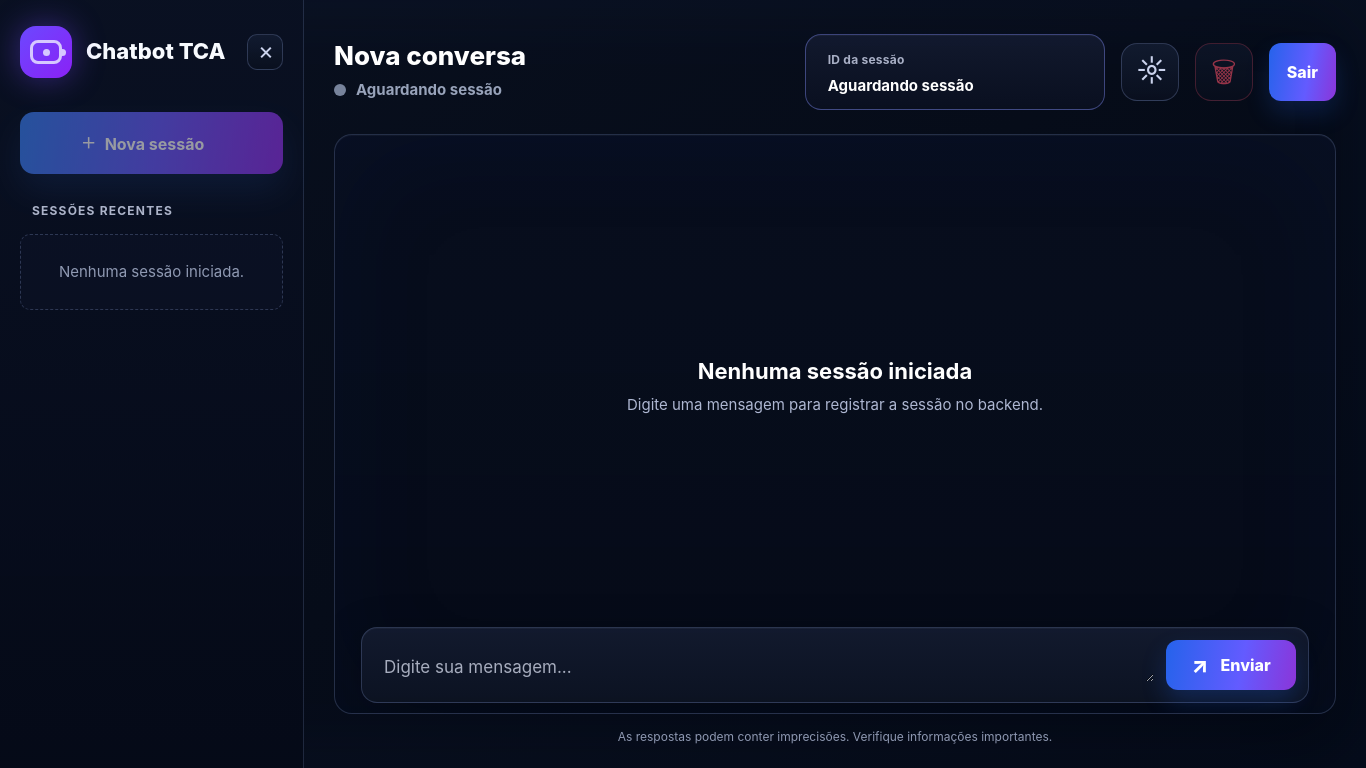
ChatBox › shows API errors and keeps the typed message visible
In the text box with placeholder "Digite sua mensagem...": (768, 668) x1=382 y1=653 x2=1154 y2=682, type "Oi"
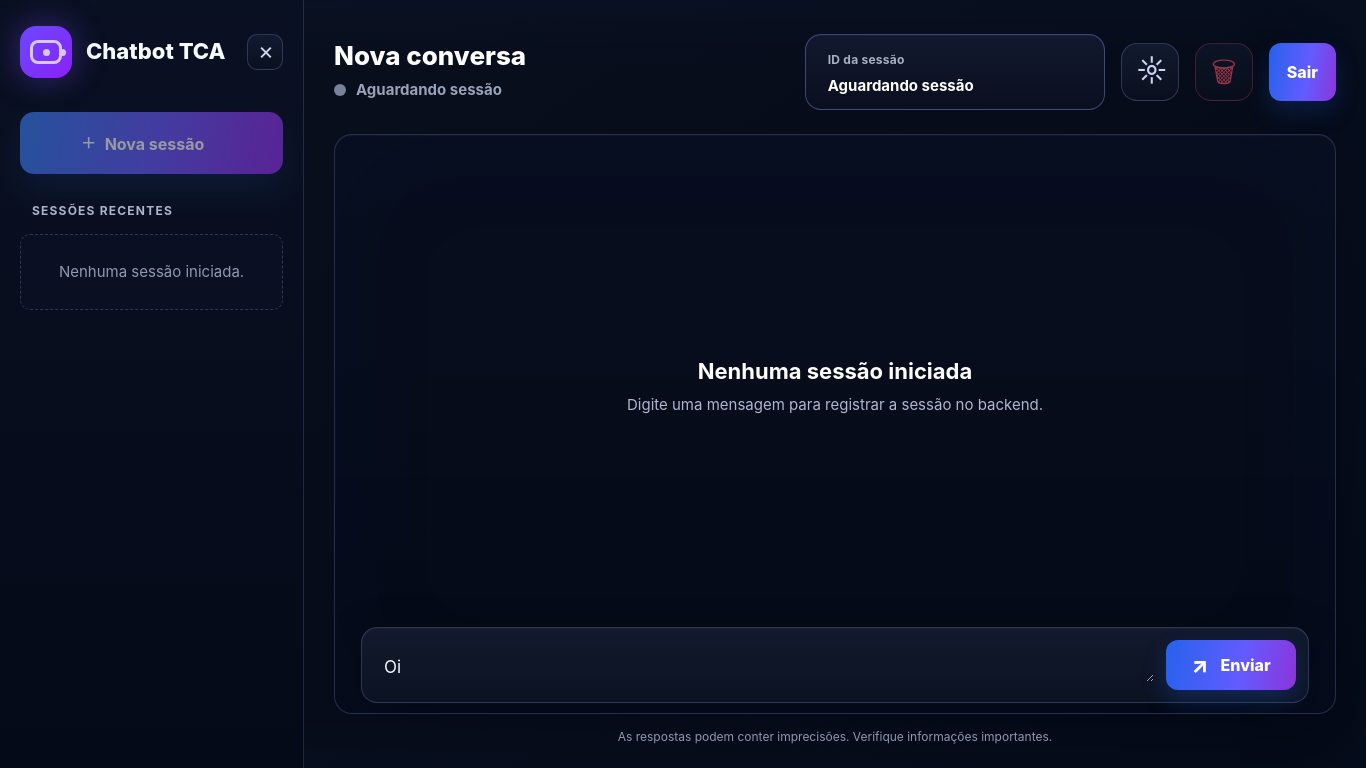
Click the button "↗ Enviar": (1231, 665) x1=1166 y1=640 x2=1296 y2=690
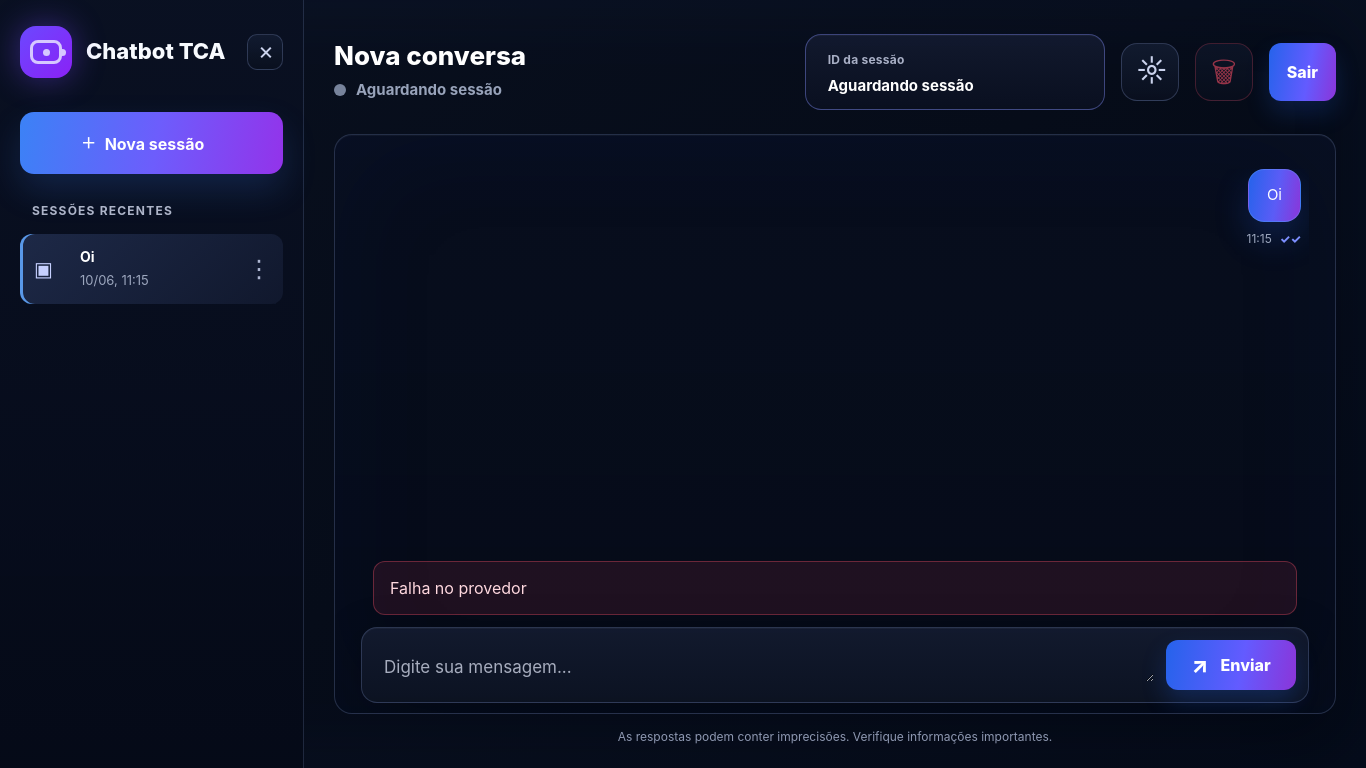
Check: the text "Oi" is shown 2 times, box x1=80 y1=248 x2=95 y2=264; x1=1248 y1=169 x2=1301 y2=222
Check: the text "Falha no provedor" is shown, box x1=373 y1=561 x2=1297 y2=615
